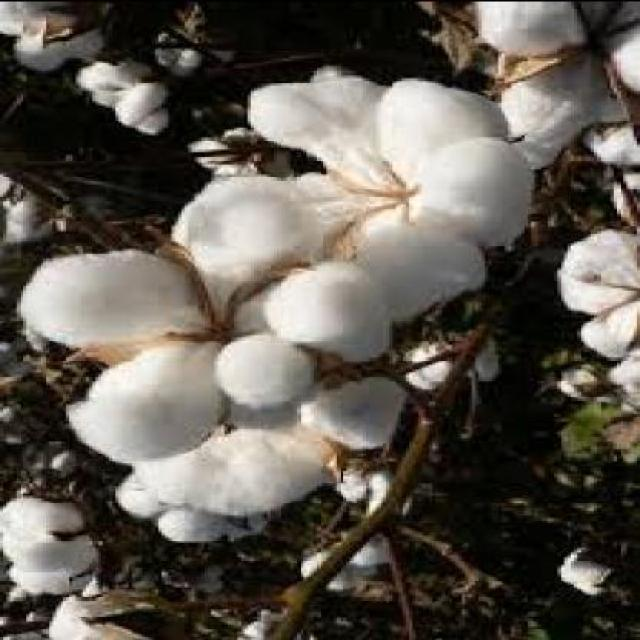cotton_ready: (195, 49, 534, 317), (26, 218, 386, 450), (128, 418, 340, 548)
